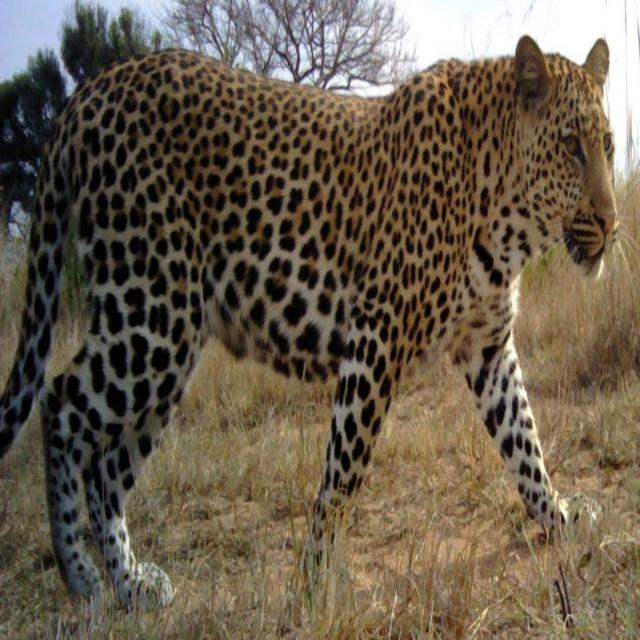Leopard: (1, 29, 630, 630)
